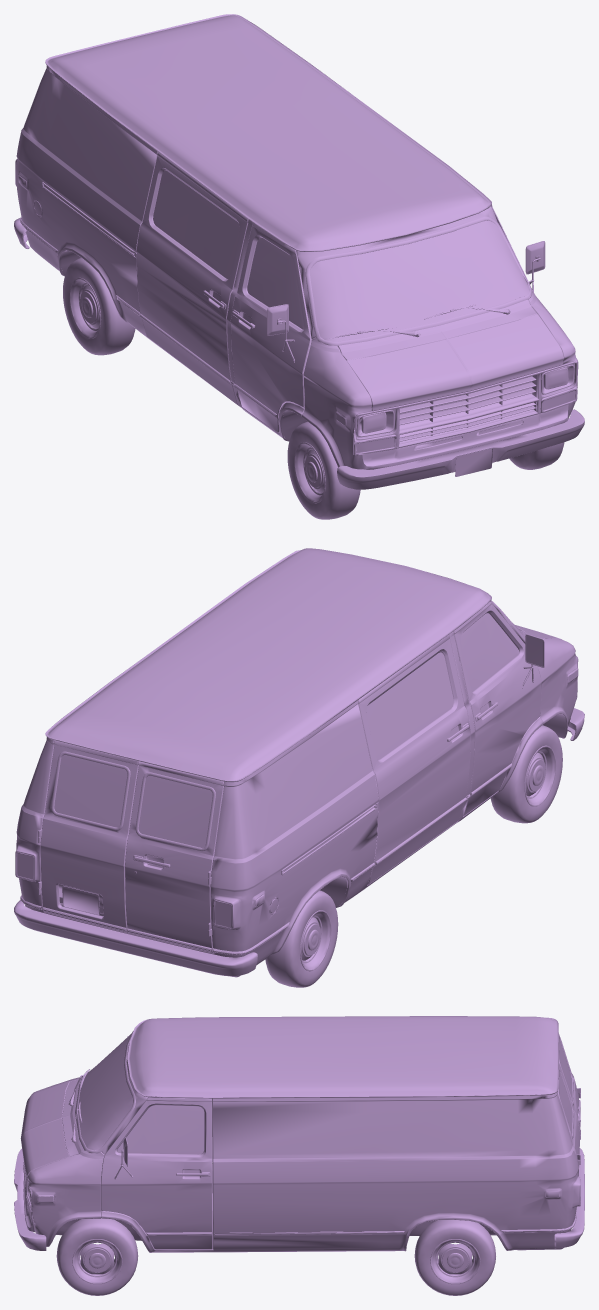
File: salt_van.lod0.glb
3 views of the same model, one above another, from view 1: azimuth 30°, elevation 25°; view 2: azimuth 150°, elevation 25°; view 3: azimuth 270°, elevation 25° (orthographic). The views are drawn at different scales.
Visible parts, largest first — view 1: SM_CargoVan_Body_LOD0, SM_CargoVan_Glass_Front_1, SM_CargoVan_Door_Side_LOD0, SM_CargoVan_Bonnet_LOD0, SM_CargoVan_Door_R1_LOD0, SM_CargoVan_Glass_R2_1, SM_CargoVan_Wheel_LOD0_2, SM_CargoVan_Wheel_LOD0_3, SM_CargoVan_Glass_R1_1, SM_CargoVan_Wheel_LOD0_1, SM_CargoVan_GlassBody_1, SM_CargoVan_Door_L1_LOD0; view 2: SM_CargoVan_Body_LOD0, SM_CargoVan_Door_Side_LOD0, SM_CargoVan_Door_RR_LOD0, SM_CargoVan_Door_RL_LOD0, SM_CargoVan_Door_R1_LOD0, SM_CargoVan_Glass_R2_1, SM_CargoVan_Wheel_LOD0_2, SM_CargoVan_Wheel_LOD0_3, SM_CargoVan_Glass_Back_R_1, SM_CargoVan_Glass_Back_L_1, SM_CargoVan_Glass_R1_1, SM_CargoVan_GlassBody_1; view 3: SM_CargoVan_Body_LOD0, SM_CargoVan_Door_L1_LOD0, SM_CargoVan_Wheel_LOD0_1, SM_CargoVan_Wheel_LOD0, SM_CargoVan_Glass_Front_1, SM_CargoVan_Glass_L1_1, SM_CargoVan_Bonnet_LOD0, SM_CargoVan_Door_RL_LOD0, SM_CargoVan_Door_RR_LOD0, SM_CargoVan_Glass_Back_L_1.
Part boxes in pixels (x1,y1,x2,y2): SM_CargoVan_Body_LOD0: (14,14,584,489); SM_CargoVan_Glass_Front_1: (310,220,529,341); SM_CargoVan_Door_Side_LOD0: (134,152,248,403); SM_CargoVan_Bonnet_LOD0: (347,314,563,411); SM_CargoVan_Door_R1_LOD0: (230,222,310,432); SM_CargoVan_Glass_R2_1: (153,170,239,278); SM_CargoVan_Wheel_LOD0_2: (63,258,135,355); SM_CargoVan_Wheel_LOD0_3: (287,421,360,519); SM_CargoVan_Glass_R1_1: (247,238,304,329); SM_CargoVan_Wheel_LOD0_1: (509,442,564,469); SM_CargoVan_GlassBody_1: (336,369,567,432); SM_CargoVan_Door_L1_LOD0: (491,205,545,298); SM_CargoVan_Body_LOD0: (14,548,584,977); SM_CargoVan_Door_Side_LOD0: (358,635,470,884); SM_CargoVan_Door_RR_LOD0: (125,761,223,953); SM_CargoVan_Door_RL_LOD0: (38,740,138,932); SM_CargoVan_Door_R1_LOD0: (453,601,544,815); SM_CargoVan_Glass_R2_1: (366,652,453,759); SM_CargoVan_Wheel_LOD0_2: (265,890,338,987); SM_CargoVan_Wheel_LOD0_3: (490,725,562,823); SM_CargoVan_Glass_Back_R_1: (138,775,212,847); SM_CargoVan_Glass_Back_L_1: (54,755,127,827); SM_CargoVan_Glass_R1_1: (461,613,519,691); SM_CargoVan_GlassBody_1: (17,668,578,927); SM_CargoVan_Body_LOD0: (14,1016,584,1252); SM_CargoVan_Door_L1_LOD0: (101,1097,212,1249); SM_CargoVan_Wheel_LOD0_1: (56,1218,138,1295); SM_CargoVan_Wheel_LOD0: (414,1220,495,1295); SM_CargoVan_Glass_Front_1: (78,1033,132,1150); SM_CargoVan_Glass_L1_1: (117,1105,204,1154); SM_CargoVan_Bonnet_LOD0: (20,1081,69,1181); SM_CargoVan_Door_RL_LOD0: (557,1066,580,1218); SM_CargoVan_Door_RR_LOD0: (559,1035,580,1134); SM_CargoVan_Glass_Back_L_1: (559,1071,572,1134).
Size of the model in its own units: 2.68 by 2.34 by 5.93.
